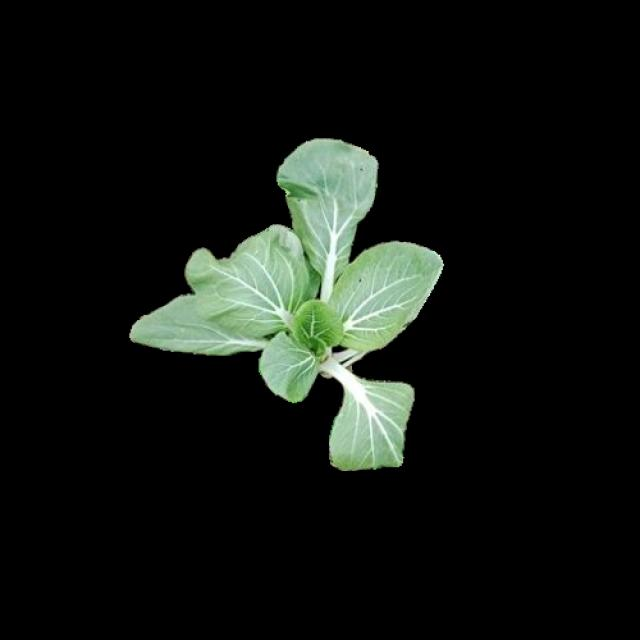healthy: (131, 136, 439, 468)
not-mature: (133, 138, 442, 471)
